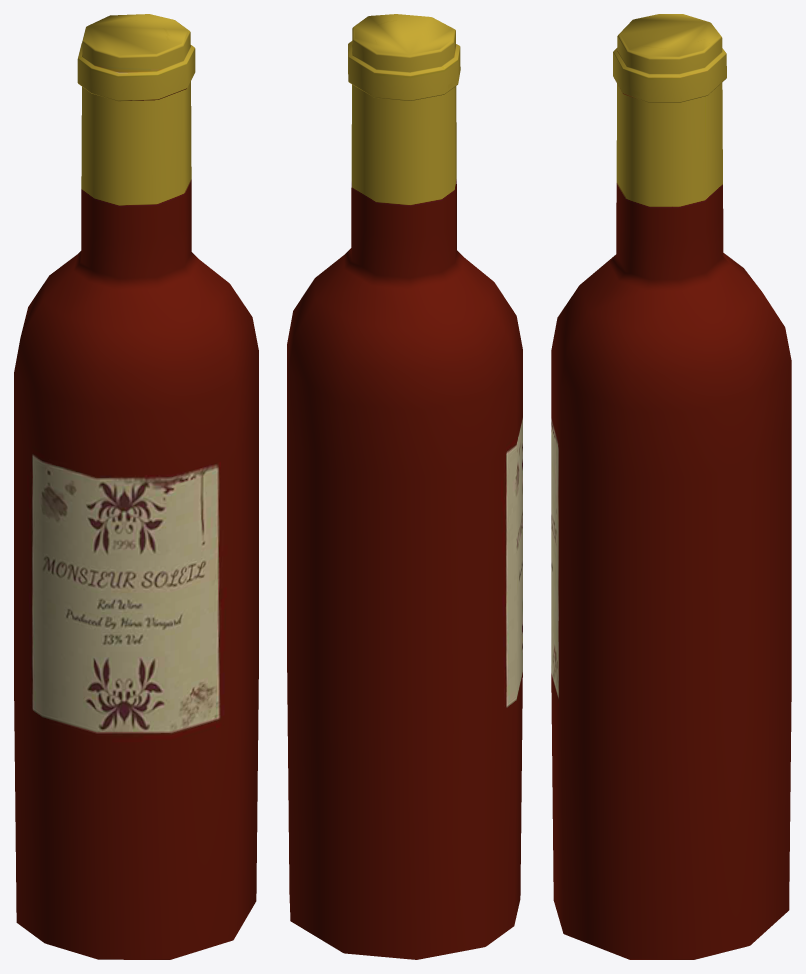
The model's file is wine bottle.fbx.
3 renders of one model, left to right at view 1: azimuth 30°, elevation 25°; view 2: azimuth 150°, elevation 25°; view 3: azimuth 270°, elevation 25°, orthographic.
Visible parts, largest first — view 1: wine bottle; view 2: wine bottle; view 3: wine bottle.
Boxes of the visible parts, x1,y1,x2,y2 form: wine bottle: [14, 14, 258, 959]; wine bottle: [287, 14, 522, 959]; wine bottle: [551, 14, 791, 959].
Bounding box in the file's own units: 8.5 × 34.67 × 8.6.
1 material, 1 textured.
